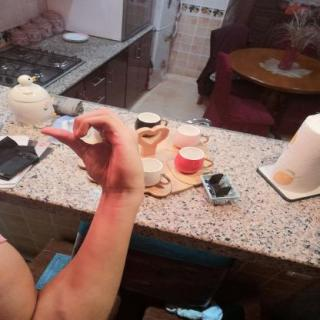WAW: (28, 100, 156, 199)
